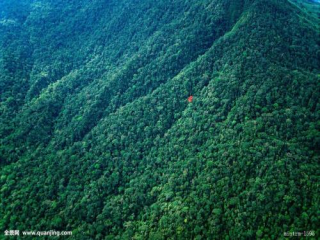fire: (184, 95, 194, 104)
